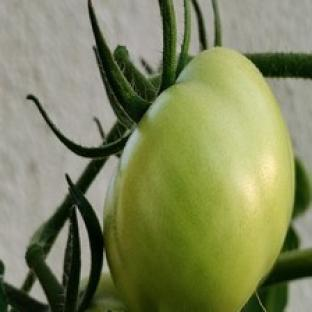Tomato: (105, 48, 293, 311), (85, 272, 126, 311)
